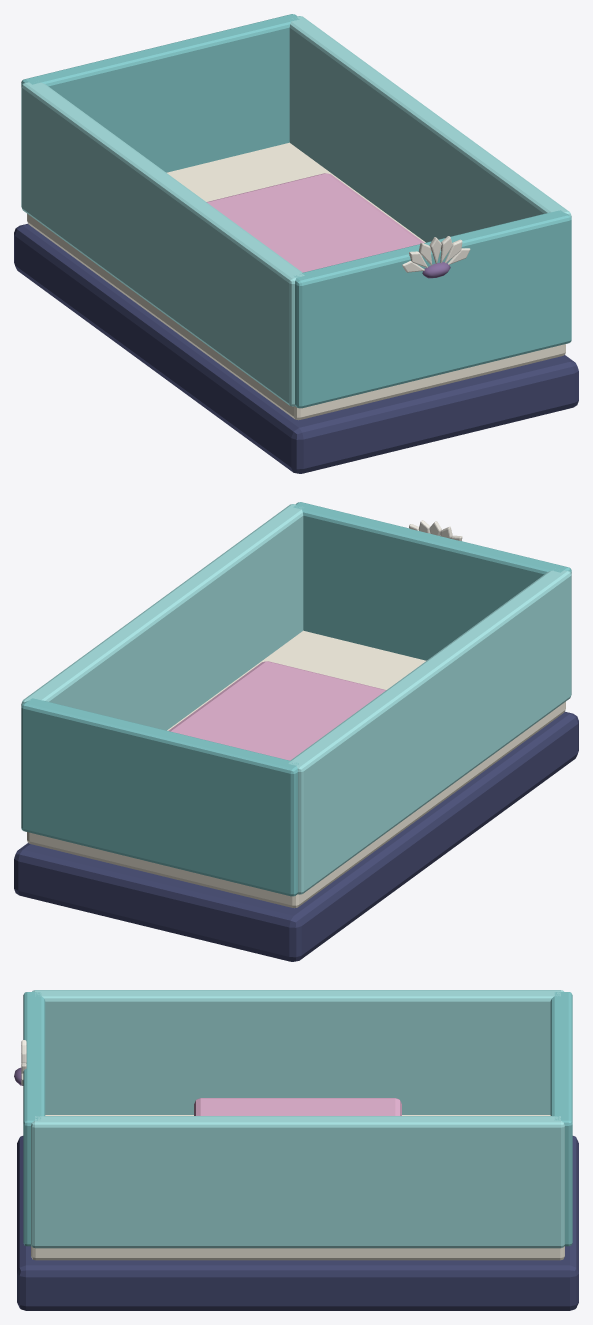
Rendered from lagoon_train_gondola.glb.
The picture shows the model from 3 angles, top to bottom: view 1: azimuth 30°, elevation 25°; view 2: azimuth 150°, elevation 25°; view 3: azimuth 270°, elevation 25°; orthographic projection.
Visible parts, largest first — view 1: lagoon_train_gondola.001; view 2: lagoon_train_gondola.001; view 3: lagoon_train_gondola.001.
Boxes of the visible parts, box(x1,y1,x2,y2) form: lagoon_train_gondola.001: box(14, 14, 578, 473); lagoon_train_gondola.001: box(14, 502, 578, 961); lagoon_train_gondola.001: box(14, 990, 578, 1310).
Size of the model in its own units: 4.7 by 3.2 by 8.14.
